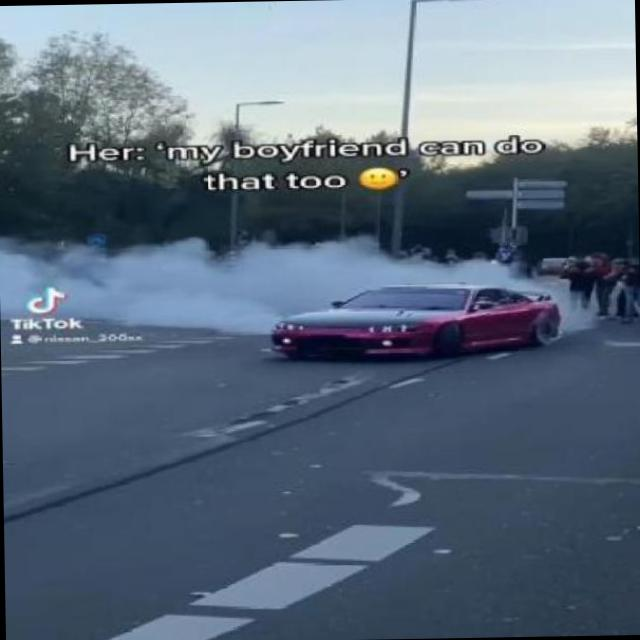car: (266, 277, 566, 360)
